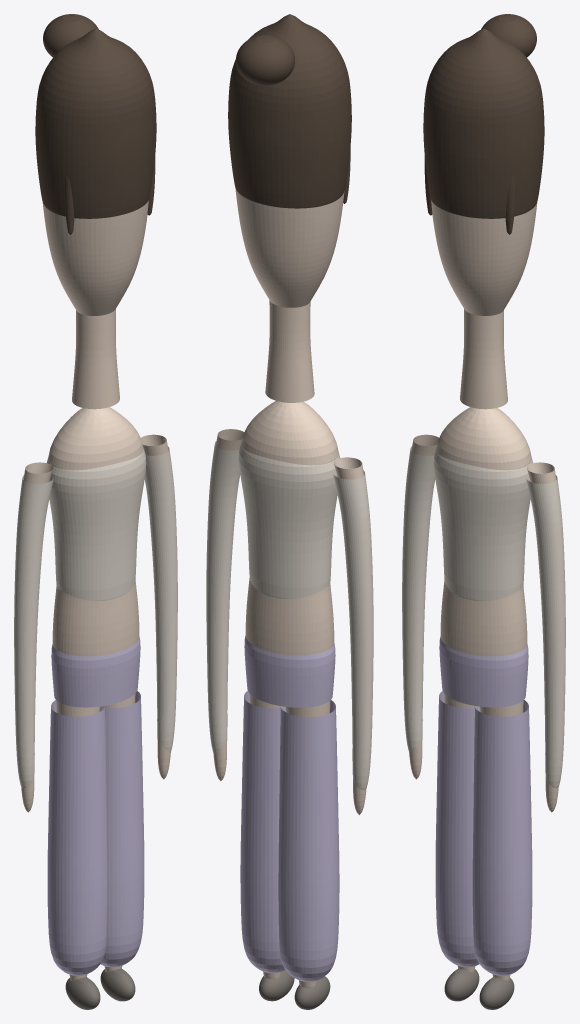
The model's file is juju_stage1_sculpt.glb.
3 views of the same model, side by side, from view 1: azimuth 30°, elevation 25°; view 2: azimuth 150°, elevation 25°; view 3: azimuth 330°, elevation 25° (orthographic). The views are drawn at different scales.
Visible parts, largest first — view 1: JujuPants, JujuTop, JujuHairCap, JujuBody, JujuHead, JujuHairBun, JujuShoe_L, JujuShoe_R, JujuHairStrand_R; view 2: JujuPants, JujuTop, JujuHairCap, JujuHead, JujuBody, JujuHairBun, JujuShoe_R, JujuShoe_L; view 3: JujuPants, JujuTop, JujuHairCap, JujuBody, JujuHead, JujuHairBun, JujuShoe_L, JujuShoe_R, JujuHairStrand_L.
Part boxes in pixels (x1,y1,x2,y2): JujuPants: (47,636,144,975); JujuTop: (14,446,177,788); JujuHairCap: (35,28,156,218); JujuBody: (21,407,170,980); JujuHead: (42,200,148,409); JujuHairBun: (43,14,98,57); JujuShoe_L: (100,968,135,1001); JujuShoe_R: (65,977,100,1009); JujuHairStrand_R: (64,176,74,234); JujuPants: (240,635,339,981); JujuTop: (206,441,373,790); JujuHairCap: (228,14,351,208); JujuHead: (235,188,344,402); JujuBody: (213,401,366,988); JujuHairBun: (236,35,294,85); JujuShoe_R: (294,976,330,1009); JujuShoe_L: (259,970,294,1001); JujuPants: (435,636,532,975); JujuTop: (402,446,565,788); JujuHairCap: (423,28,544,218); JujuBody: (409,407,558,980); JujuHead: (431,200,537,409); JujuHairBun: (481,14,536,57); JujuShoe_L: (479,977,514,1009); JujuShoe_R: (444,968,479,1001); JujuHairStrand_L: (505,176,515,234).
Size of the model in its own units: 0.3686 by 2.12 by 0.2666.
